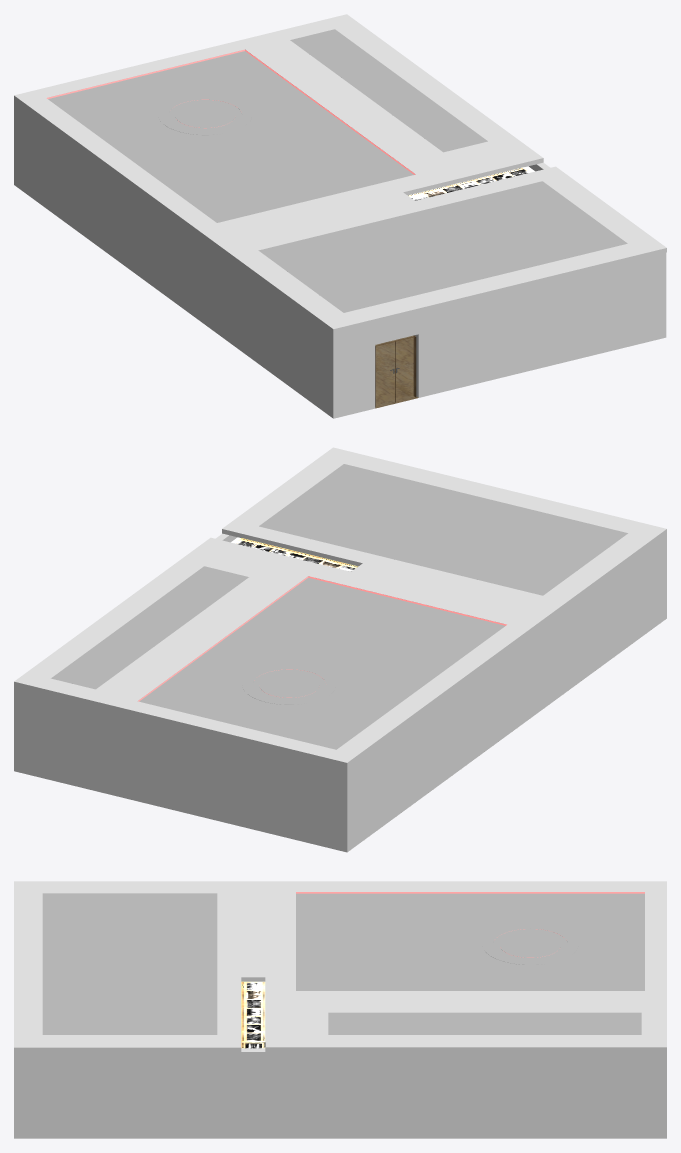
Rendered from Scenes.gltf.
3 renders of one model, top to bottom at view 1: azimuth 30°, elevation 25°; view 2: azimuth 150°, elevation 25°; view 3: azimuth 270°, elevation 25°, orthographic. The views are drawn at different scales.
Visible parts, largest first — view 1: CD2, qiang, CD1, DIMIAN, CQ11, CBBB; view 2: CD2, qiang, CD1, CQ11, CBBB; view 3: CD2, qiang, CD1, CQ11, CBBB.
Part boxes in pixels (x1,y1,x2,y2): CD2: (48,29,627,312); qiang: (14,100,666,418); CD1: (14,14,666,333); DIMIAN: (375,335,418,408); CQ11: (408,167,531,200); CBBB: (46,49,415,174); CD2: (51,464,627,749); qiang: (14,533,666,852); CD1: (14,447,666,767); CQ11: (235,538,358,571); CBBB: (138,576,506,701); CD2: (42,893,644,1034); qiang: (14,1048,666,1138); CD1: (14,881,666,1052); CQ11: (241,981,265,1042); CBBB: (296,892,644,893).
Size of the model in its own units: 11.5 by 2.95 by 19.08.
59 materials, 35 textured.
